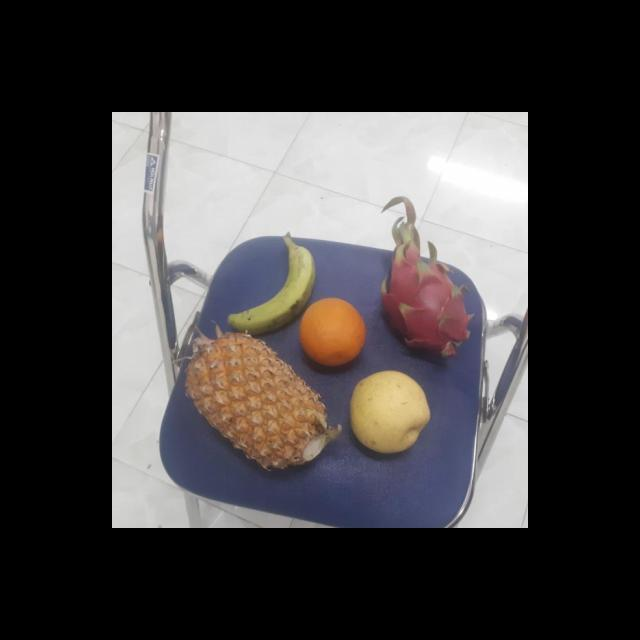banana: (214, 236, 316, 336)
orange: (297, 299, 368, 369)
pear: (346, 372, 431, 455)
pineapple: (181, 332, 333, 469)
pitaya: (372, 252, 470, 365)
